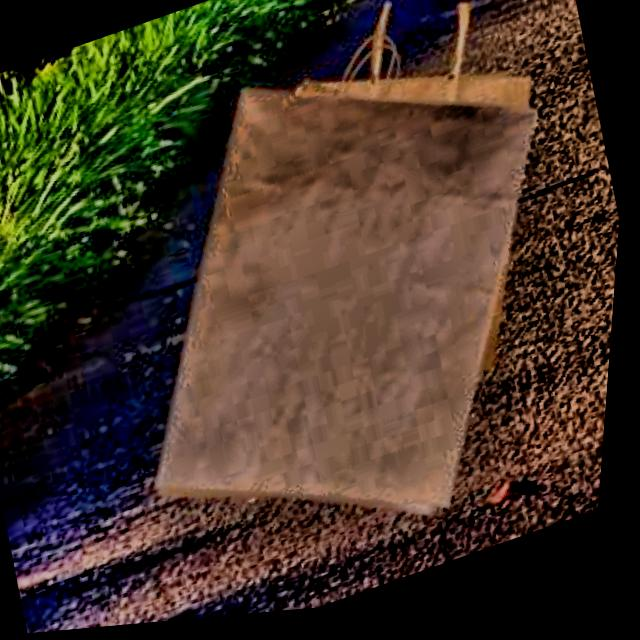Paper-bag: (21, 0, 640, 636)
